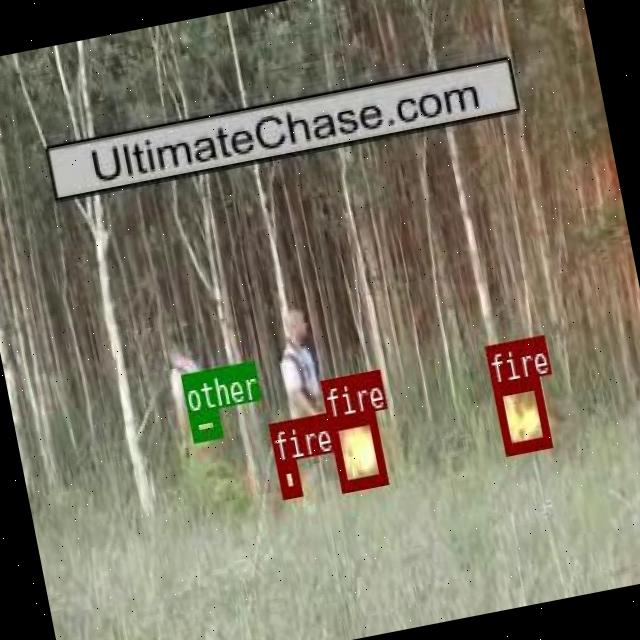fire: (327, 410, 387, 490), (492, 374, 550, 452), (276, 458, 302, 498)
